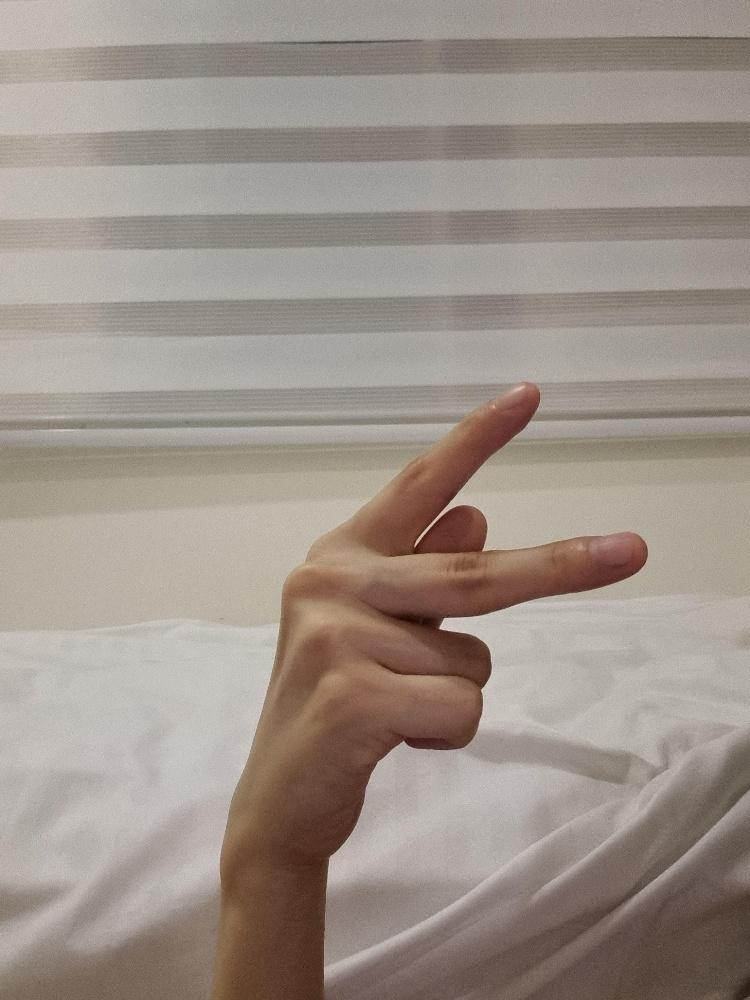k: (221, 379, 649, 863)
